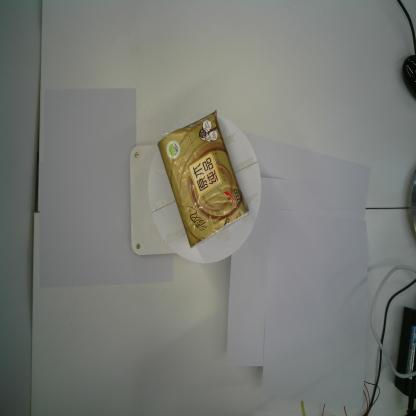Tissue: (156, 108, 250, 250)
